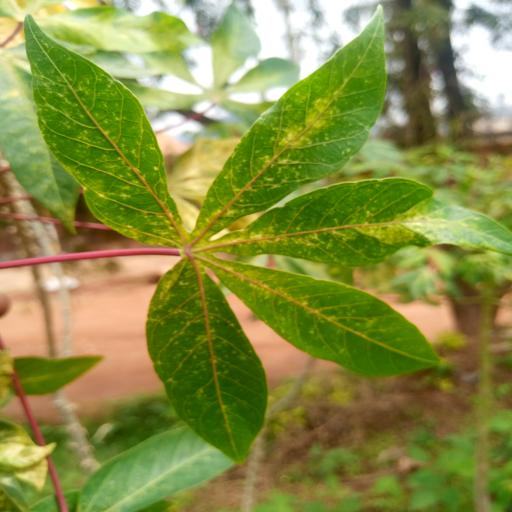Cassava_Mosaic: (17, 5, 512, 461)
